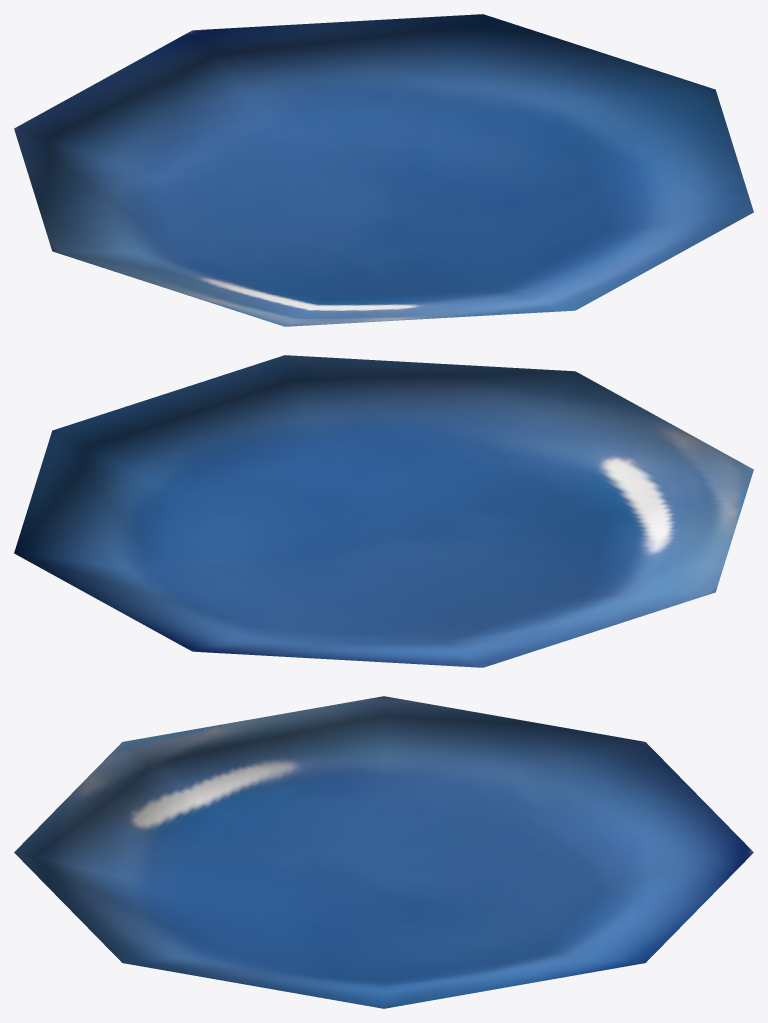
The model's file is Plate-col.glb.
3 renders of one model, top to bottom at view 1: azimuth 30°, elevation 25°; view 2: azimuth 150°, elevation 25°; view 3: azimuth 270°, elevation 25°, orthographic. The views are drawn at different scales.
Parts seen in each view (by area): view 1: Plate-col; view 2: Plate-col; view 3: Plate-col.
Boxes of the visible parts, x1=… form: Plate-col: x1=14, y1=14, x2=753, y2=326; Plate-col: x1=14, y1=355, x2=753, y2=667; Plate-col: x1=14, y1=696, x2=753, y2=1008.
Size of the model in its own units: 0.3282 by 0.0229 by 0.3282.
Materials: 1 (1 with a texture image).
